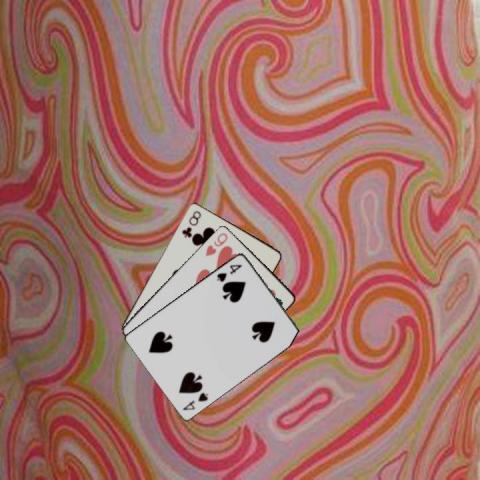4s: (179, 390, 210, 412), (214, 262, 243, 284)
8c: (178, 207, 202, 239)
9h: (202, 230, 229, 258)
